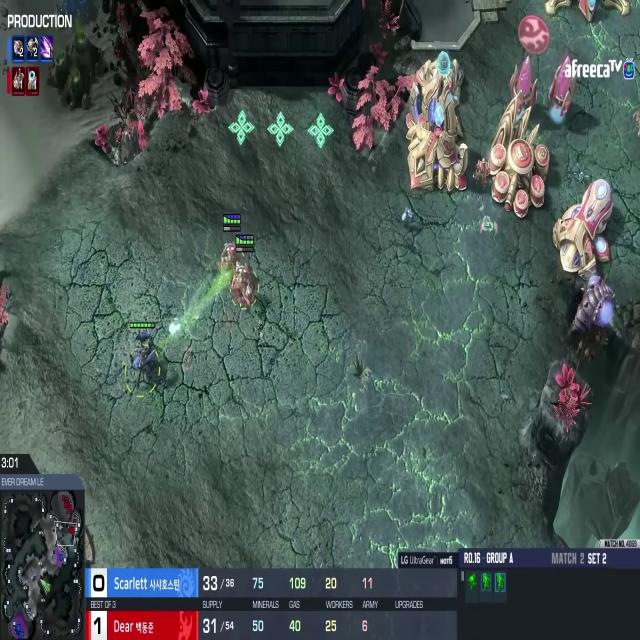adept: (230, 261, 255, 312), (218, 233, 239, 282)
overlord: (566, 270, 620, 364)
roach: (128, 329, 160, 388)
zealot: (472, 144, 492, 196)
